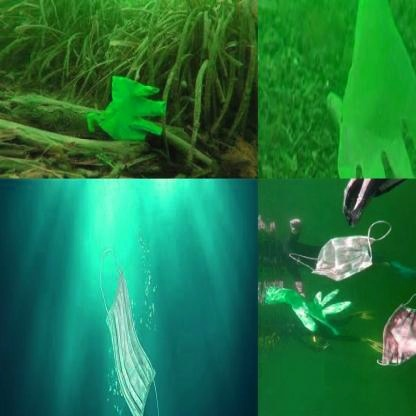Mask: (100, 249, 160, 415), (284, 221, 394, 281), (82, 79, 172, 152), (374, 293, 416, 372)
glove: (315, 0, 416, 178), (263, 287, 349, 337)
